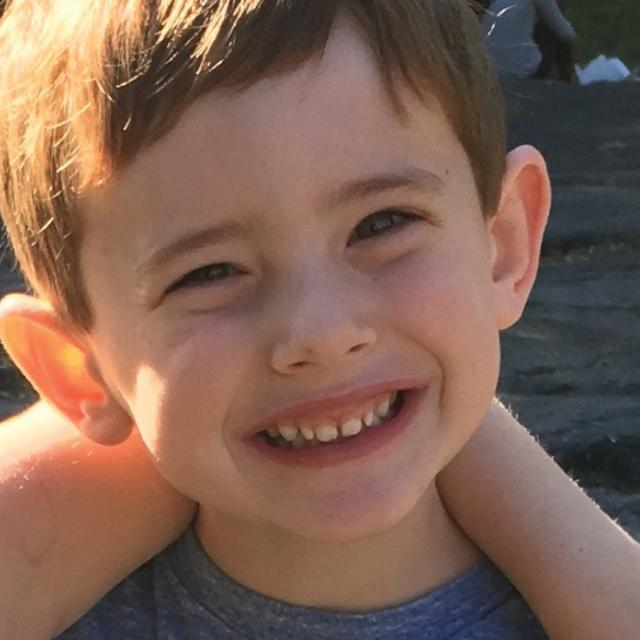Normal: (84, 16, 503, 536)
